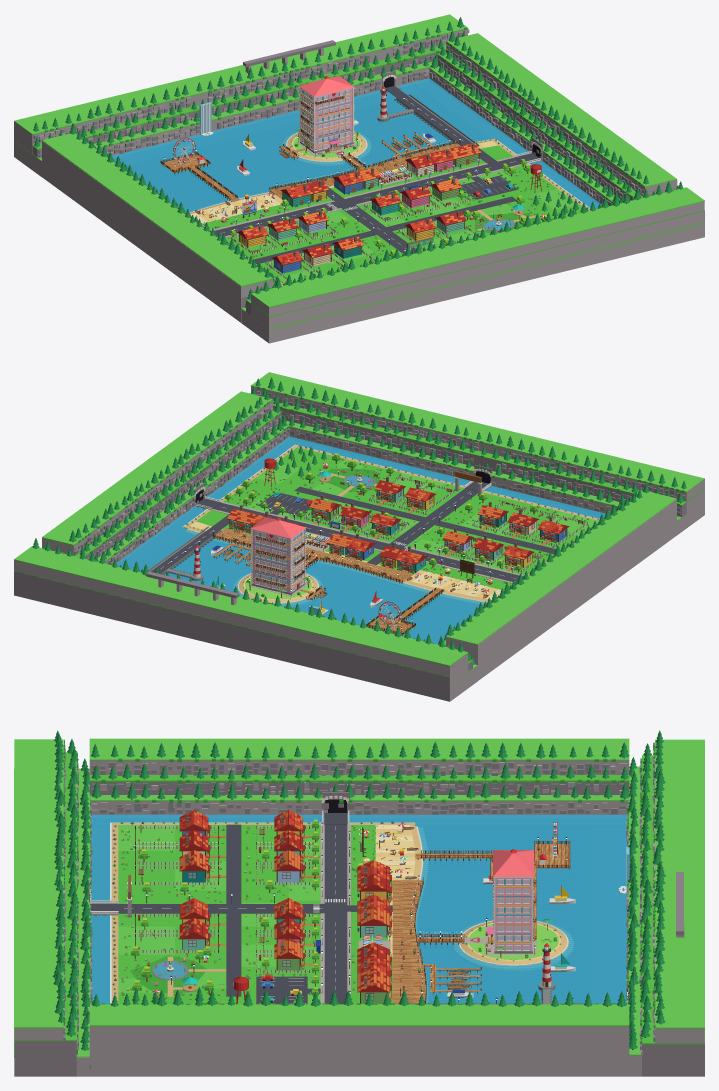
Rendered from FishermanMistressHarbor.fbx.
3 views of the same model, one above another, from view 1: azimuth 30°, elevation 25°; view 2: azimuth 150°, elevation 25°; view 3: azimuth 270°, elevation 25° (orthographic). The views are drawn at different scales.
Parts seen in each view (by area): view 1: Terrain_StoneDark_2_2_00, Backdrop_Cliff_1_-1_00, Backdrop_Grass2_2_-1_00, Backdrop_Grass2_1_4_00, Backdrop_Cliff_-1_2_00, Backdrop_Grass2_4_2_00, Backdrop_Cliff_2_-1_00, Backdrop_Grass2_-1_2_00, Backdrop_Cliff_1_4_00, Water_Water_1_3_00, Water_Water_0_3_00, Water_Water_2_4_00 (+39 smaller); view 2: Backdrop_CliffDark_2_4_00, Terrain_StoneDark_2_2_00, Backdrop_Grass2_1_4_00, Backdrop_Cliff_-1_2_00, Backdrop_Grass2_2_-1_00, Backdrop_Grass2_4_2_00, Backdrop_Grass2_-1_2_00, Backdrop_Cliff_1_4_00, Water_Water_1_3_00, Backdrop_Cliff_2_-1_00, Water_Water_0_3_00, Backdrop_Cliff_1_-1_00 (+48 smaller); view 3: Backdrop_Cliff_4_2_00, Terrain_StoneDark_2_2_00, Backdrop_Grass2_1_4_00, Backdrop_Grass2_-1_2_00, Backdrop_Grass2_2_-1_00, Backdrop_Grass2_4_2_00, Backdrop_Cliff_-1_2_00, Water_Water_0_3_00, Water_Water_2_4_00, Water_Water_1_3_00, Water_Water_-1_2_00, Backdrop_CliffDark_-1_2_00 (+88 smaller).
Boxes of the visible parts, x1,y1,x2,y2 form: Terrain_StoneDark_2_2_00: [114, 81, 598, 211]; Backdrop_Cliff_1_-1_00: [251, 201, 704, 328]; Backdrop_Grass2_2_-1_00: [251, 187, 704, 307]; Backdrop_Grass2_1_4_00: [14, 14, 468, 161]; Backdrop_Cliff_-1_2_00: [42, 141, 272, 322]; Backdrop_Grass2_4_2_00: [429, 33, 676, 202]; Backdrop_Cliff_2_-1_00: [241, 223, 704, 343]; Backdrop_Grass2_-1_2_00: [42, 133, 272, 287]; Backdrop_Cliff_1_4_00: [14, 29, 467, 176]; Water_Water_1_3_00: [198, 129, 336, 193]; Water_Water_0_3_00: [127, 148, 260, 212]; Water_Water_2_4_00: [112, 83, 424, 165]; Backdrop_CliffDark_2_4_00: [14, 571, 472, 701]; Terrain_StoneDark_2_2_00: [118, 439, 604, 643]; Backdrop_Grass2_1_4_00: [14, 546, 477, 685]; Backdrop_Cliff_-1_2_00: [446, 499, 676, 680]; Backdrop_Grass2_2_-1_00: [250, 372, 704, 492]; Backdrop_Grass2_4_2_00: [42, 391, 289, 561]; Backdrop_Grass2_-1_2_00: [446, 491, 676, 644]; Backdrop_Cliff_1_4_00: [14, 560, 477, 701]; Water_Water_1_3_00: [283, 565, 411, 625]; Backdrop_Cliff_2_-1_00: [289, 427, 704, 535]; Water_Water_0_3_00: [359, 585, 486, 643]; Backdrop_Cliff_1_-1_00: [251, 386, 704, 513]; Backdrop_Cliff_4_2_00: [89, 1006, 629, 1076]; Terrain_StoneDark_2_2_00: [91, 818, 626, 1003]; Backdrop_Grass2_1_4_00: [628, 739, 704, 1055]; Backdrop_Grass2_-1_2_00: [89, 738, 629, 801]; Backdrop_Grass2_2_-1_00: [14, 739, 63, 1028]; Backdrop_Grass2_4_2_00: [90, 1004, 629, 1026]; Backdrop_Cliff_-1_2_00: [90, 760, 629, 817]; Water_Water_0_3_00: [417, 826, 591, 876]; Water_Water_2_4_00: [591, 826, 627, 1004]; Water_Water_1_3_00: [415, 876, 591, 926]; Water_Water_-1_2_00: [91, 814, 627, 826]; Backdrop_CliffDark_-1_2_00: [89, 761, 629, 814].
Size of the model in its own units: 723 by 117 by 731.
